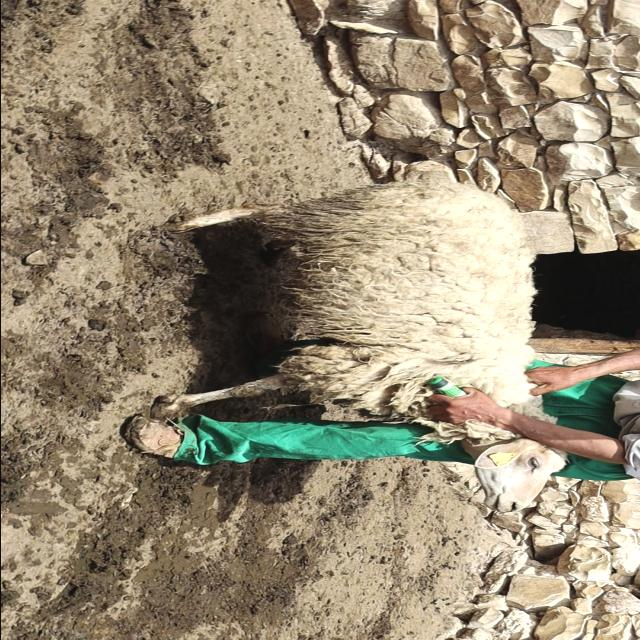Score_3: (151, 162, 567, 513)
